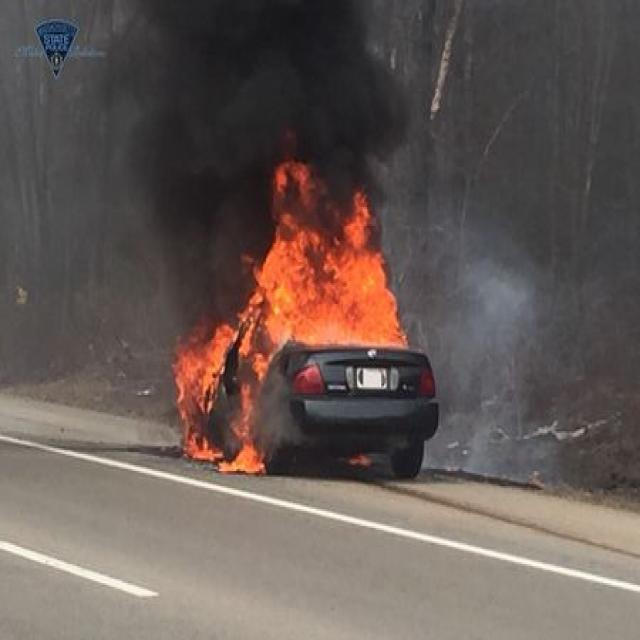fire: (266, 238, 399, 344), (182, 334, 265, 477)
